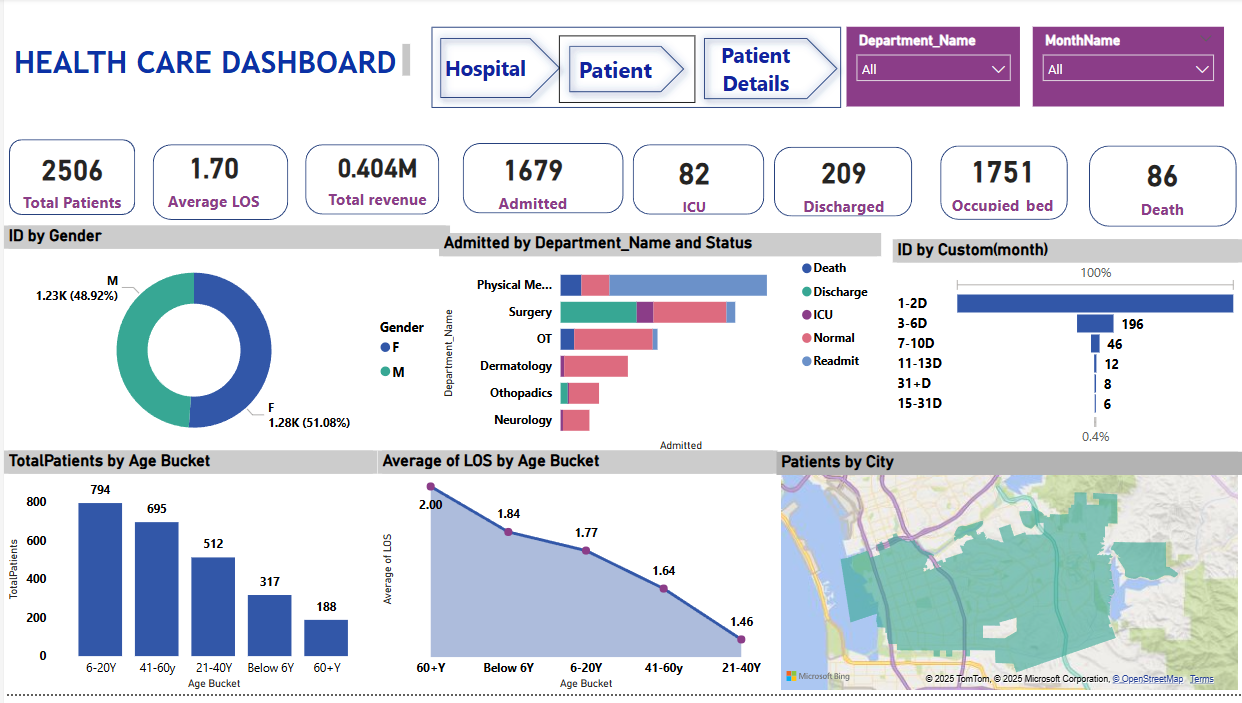

This screenshot's page, from the dashboard's own definition file:
{"tool":"powerbi","page":{"name":"Hospital","canvas":[1280,720],"ordinal":0},"visuals":[{"type":"card","fields":{"Values":["CountNonNull(Detail data dataset.ID)"]},"box":[0,149.6,141.3,74.1],"z":0},{"type":"donutChart","fields":{"Y":["CountNonNull(Detail data dataset.ID)"],"Category":["Detail data dataset.Gender"]},"box":[0,234.6,461.1,238.8],"z":1000},{"type":"clusteredColumnChart","fields":{"Category":["Detail data dataset.Age Bucket"],"Y":["CountNonNull(Detail data dataset.ID)"]},"box":[0,467.9,385.6,252.5],"z":2000},{"type":"areaChart","fields":{"Y":["Avg(Detail data dataset.LOS)"],"Category":["Detail data dataset.Age Bucket"]},"box":[385.6,467.9,413,252.5],"z":3000},{"type":"card","fields":{"Values":["Bed_Detail.Average LOS"]},"box":[141.3,145.5,152.3,78.2],"z":4000},{"type":"card","fields":{"Values":["Bed_Detail.Total revenue"]},"box":[311.5,145.5,149.6,78.2],"z":5000},{"type":"card","fields":{"Values":["Detail data dataset.Admitted"]},"box":[473.4,150.9,145.5,72.7],"z":6000},{"type":"card","fields":{"Values":["Detail data dataset.ICU"]},"box":[649.1,150.9,127.6,78.2],"z":7000},{"type":"card","fields":{"Values":["Detail data dataset.Discharged"]},"box":[798.6,150.9,133.1,72.7],"z":8000},{"type":"card","fields":{"Values":["Detail data dataset.Occupied_bed"]},"box":[952.3,152.3,160.5,72.7],"z":9000},{"type":"card","fields":{"Values":["Detail data dataset.Death"]},"box":[1113.1,150.6,167.7,83.9],"z":10000},{"type":"barChart","fields":{"Y":["Detail data dataset.Admitted"],"Category":["Department.Department_Name"],"Series":["Detail data dataset.Status"]},"box":[461.1,234.6,456.9,231.9],"z":11000},{"type":"funnel","fields":{"Y":["CountNonNull(Detail data dataset.ID)"],"Category":["Detail data dataset.Custom"]},"box":[918.7,249.7,362.1,217.3],"z":12000},{"type":"textbox","box":[20.7,42.6,480.4,49.1],"z":13000},{"type":"slicer","fields":{"Values":["Department.Department_Name"]},"box":[1065.4,80.1,198.9,63.3],"z":14000},{"type":"slicer","fields":{"Values":["Calendar_date.MonthName"]},"box":[1065.4,11.6,198.9,60.7],"z":15000},{"type":"filledMap","fields":{"Category":["Detail data dataset.City"]},"box":[798.6,469.3,481.6,251.1],"z":16000},{"type":"shape","box":[5.5,145.5,130.4,78.2],"z":16001},{"type":"shape","box":[153.7,150.9,140,78.2],"z":16002},{"type":"shape","box":[311.5,150.9,138.6,72.7],"z":16003},{"type":"shape","box":[473.4,149.6,166,72.7],"z":16004},{"type":"shape","box":[649.1,150.9,135.8,72.7],"z":16005},{"type":"shape","box":[798.6,152.3,142.7,72.7],"z":16006},{"type":"shape","box":[967.4,152.3,131.7,76.8],"z":16007},{"type":"shape","box":[1120.7,152.5,152.5,83.9],"z":16008},{"type":"shape","box":[514,32.3,499.8,80.1],"z":16009},{"type":"shape","box":[519.5,33.3,169.6,80.3],"z":16010},{"type":"shape","box":[680.4,32.4,177.3,80],"z":16011},{"type":"shape","box":[863.9,27.1,149.8,85.2],"z":16012}]}

Visuals, with their boxes in screenshot pixels (x1, y1, x2, y2), scaled from the page's 1280x720 canvas onto the 1242x703 screenshot:
card - CountNonNull(Detail data dataset.ID): <bbox>0, 146, 137, 218</bbox>
donutChart - CountNonNull(Detail data dataset.ID) x Detail data dataset.Gender: <bbox>0, 229, 447, 462</bbox>
clusteredColumnChart - Detail data dataset.Age Bucket x CountNonNull(Detail data dataset.ID): <bbox>0, 457, 374, 702</bbox>
areaChart - Avg(Detail data dataset.LOS) x Detail data dataset.Age Bucket: <bbox>374, 457, 775, 702</bbox>
card - Bed_Detail.Average LOS: <bbox>137, 142, 285, 218</bbox>
card - Bed_Detail.Total revenue: <bbox>302, 142, 447, 218</bbox>
card - Detail data dataset.Admitted: <bbox>459, 147, 601, 218</bbox>
card - Detail data dataset.ICU: <bbox>630, 147, 754, 224</bbox>
card - Detail data dataset.Discharged: <bbox>775, 147, 904, 218</bbox>
card - Detail data dataset.Occupied_bed: <bbox>924, 149, 1080, 220</bbox>
card - Detail data dataset.Death: <bbox>1080, 147, 1241, 229</bbox>
barChart - Detail data dataset.Admitted x Department.Department_Name: <bbox>447, 229, 891, 455</bbox>
funnel - CountNonNull(Detail data dataset.ID) x Detail data dataset.Custom: <bbox>891, 244, 1241, 456</bbox>
textbox: <bbox>20, 42, 486, 90</bbox>
slicer - Department.Department_Name: <bbox>1034, 78, 1227, 140</bbox>
slicer - Calendar_date.MonthName: <bbox>1034, 11, 1227, 71</bbox>
filledMap - Detail data dataset.City: <bbox>775, 458, 1241, 702</bbox>
shape: <bbox>5, 142, 132, 218</bbox>
shape: <bbox>149, 147, 285, 224</bbox>
shape: <bbox>302, 147, 437, 218</bbox>
shape: <bbox>459, 146, 620, 217</bbox>
shape: <bbox>630, 147, 762, 218</bbox>
shape: <bbox>775, 149, 913, 220</bbox>
shape: <bbox>939, 149, 1066, 224</bbox>
shape: <bbox>1087, 149, 1235, 231</bbox>
shape: <bbox>499, 32, 984, 110</bbox>
shape: <bbox>504, 33, 669, 111</bbox>
shape: <bbox>660, 32, 832, 110</bbox>
shape: <bbox>838, 26, 984, 110</bbox>
